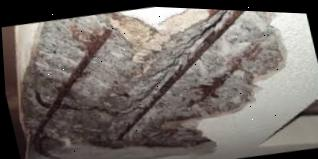exposed_rebar: (111, 10, 242, 139), (32, 29, 112, 152)
spalling: (19, 8, 287, 159)
